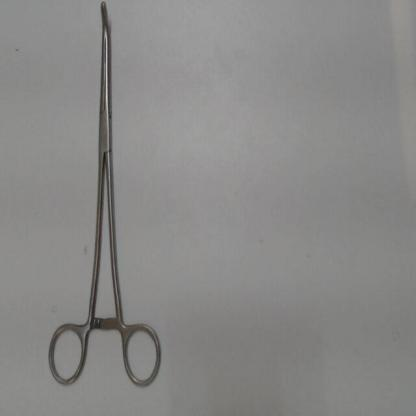Lahey Forceps: (36, 1, 167, 392)
